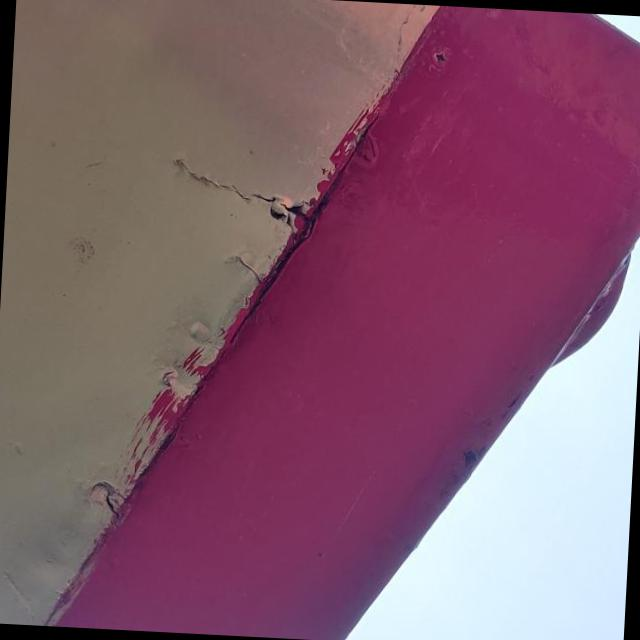Crack: (174, 158, 314, 232), (226, 252, 271, 283), (88, 482, 124, 519)
